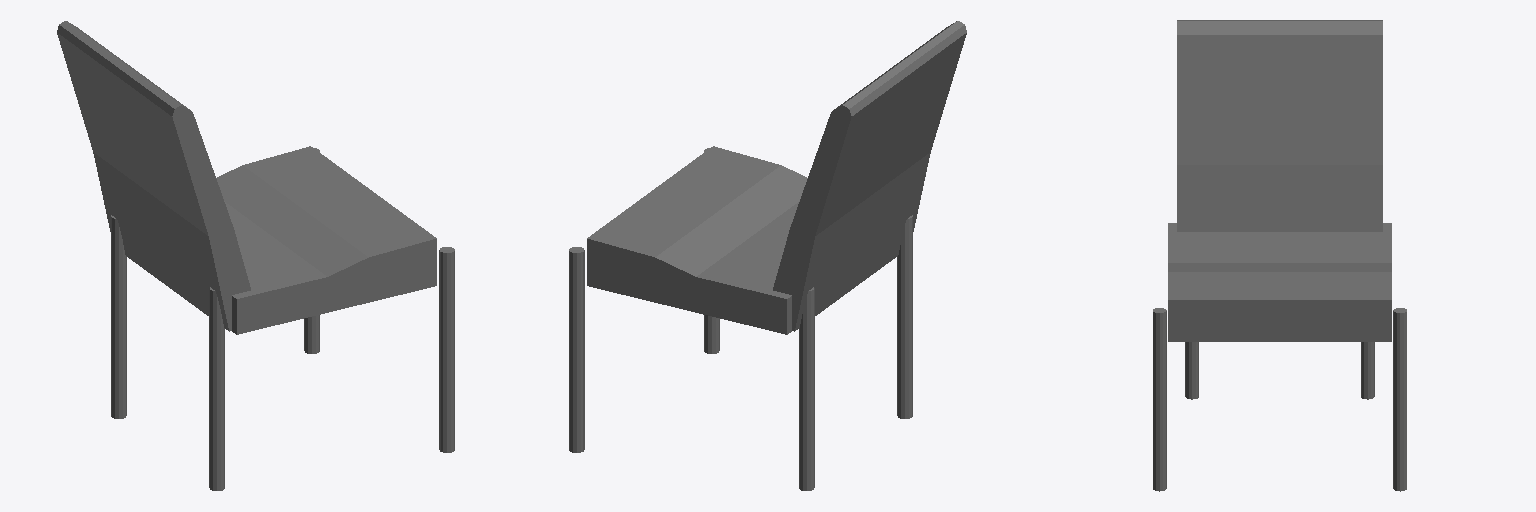
The robot description file, URDF, robot "room610-chair":
<?xml version="1.0"?>
<robot name="room610-chair"
       xmlns:xi="http://www.w3.org/2001/XInclude"
       xmlns:gazebo="http://playerstage.sourceforge.net/gazebo/xmlschema/#gz"
       xmlns:model="http://playerstage.sourceforge.net/gazebo/xmlschema/#model"
       xmlns:sensor="http://playerstage.sourceforge.net/gazebo/xmlschema/#sensor"
       xmlns:body="http://playerstage.sourceforge.net/gazebo/xmlschema/#body"
       xmlns:geom="http://playerstage.sourceforge.net/gazebo/xmlschema/#geom"
       xmlns:joint="http://playerstage.sourceforge.net/gazebo/xmlschema/#joint"
       xmlns:interface="http://playerstage.sourceforge.net/gazebo/xmlschema/#interface"
       xmlns:rendering="http://playerstage.sourceforge.net/gazebo/xmlschema/#rendering"
       xmlns:renderable="http://playerstage.sourceforge.net/gazebo/xmlschema/#renderable"
       xmlns:controller="http://playerstage.sourceforge.net/gazebo/xmlschema/#controller"
       xmlns:physics="http://playerstage.sourceforge.net/gazebo/xmlschema/#physics">
  <gazebo>
    <static>false</static>
  </gazebo>
  <link name="nil_link">
    <visual>
      <origin xyz="0 0 0" rpy="0 -0 0"/>
      <geometry>
        <mesh filename="model://room610-chair/meshes/nil_link_mesh.dae" scale="1 1 1" />
      </geometry>
    </visual>
    <collision>
      <origin xyz="0 0 0" rpy="0 -0 0"/>
      <geometry>
        <mesh filename="model://room610-chair/meshes/nil_link_mesh.dae" scale="1 1 1" />
      </geometry>
    </collision>
    <inertial>
      <mass value="0.001" />
      <origin xyz="0 0 0" rpy="0 -0 0"/>
      <inertia ixx="1e-09" ixy="0" ixz="0" iyy="1e-09" iyz="0" izz="1e-09"/>
    </inertial>
  </link>
  <gazebo reference="nil_link">
    <mu1>0.9</mu1>
    <mu2>0.9</mu2>
  </gazebo>
</robot>

--- What the picture shows (computed from the rendered views, not written in the file) ---
Views: 3 orthographic renders of the robot side by side, from view 1: azimuth 30°, elevation 25°; view 2: azimuth 150°, elevation 25°; view 3: azimuth 270°, elevation 25°.
Model room610-chair with 1 links and 0 joints (none), rooted at nil_link, posed every joint at zero.
Visible links, largest first — view 1: nil_link; view 2: nil_link; view 3: nil_link.
Link boxes in pixels (<box>): nil_link: <box>57,21,454,490</box>; nil_link: <box>569,21,966,490</box>; nil_link: <box>1153,20,1406,491</box>.
Size in the robot's own frame: 0.5975 by 0.545 by 0.84 metres.
1 mesh visuals loaded from 1 distinct referenced files (1 Collada DAE).
